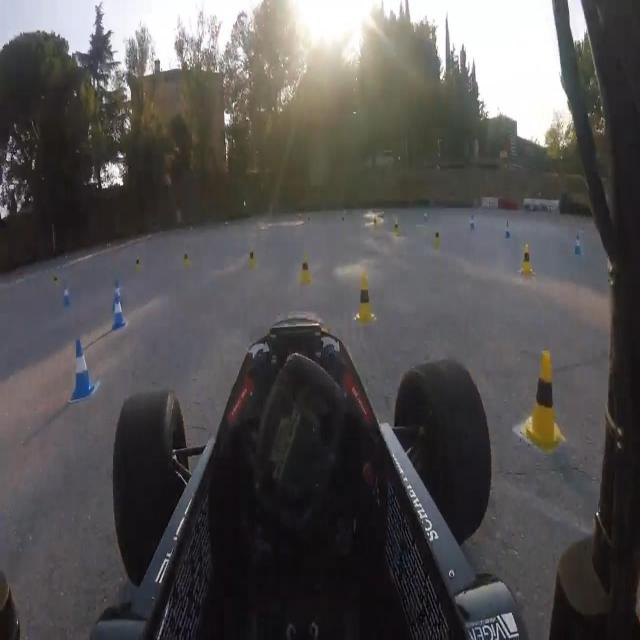blue_cone: (67, 336, 100, 405), (110, 292, 128, 334), (111, 279, 124, 315), (62, 283, 73, 310), (503, 220, 512, 240)
yellow_cone: (520, 349, 565, 457), (356, 268, 375, 325), (520, 243, 533, 276), (300, 252, 312, 284)
